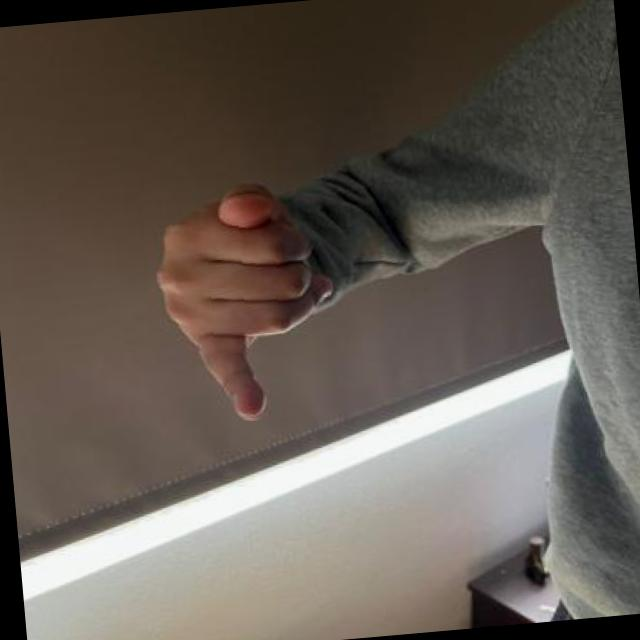Z: (140, 174, 341, 428)
